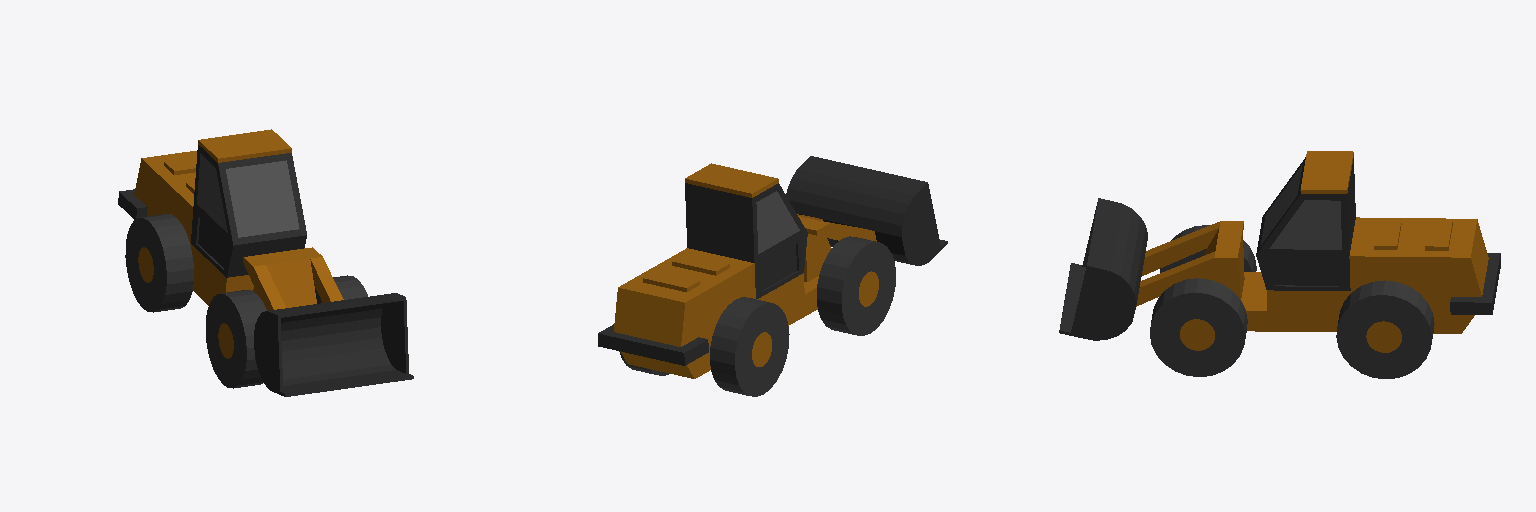
The model's file is tractor.obj.
3 renders of one model, left to right at view 1: azimuth 30°, elevation 25°; view 2: azimuth 150°, elevation 25°; view 3: azimuth 270°, elevation 25°, orthographic.
Parts seen in each view (by area): view 1: Shape_IndexedFaceSet.017, Shape_IndexedFaceSet.019, Shape_IndexedFaceSet.012, Shape_IndexedFaceSet.008, Shape_IndexedFaceSet.006, Shape_IndexedFaceSet.014, Shape_IndexedFaceSet.013, Shape_IndexedFaceSet.005, Shape_IndexedFaceSet.011, Shape_IndexedFaceSet.018, Shape_IndexedFaceSet.009; view 2: Shape_IndexedFaceSet.019, Shape_IndexedFaceSet.017, Shape_IndexedFaceSet.008, Shape_IndexedFaceSet.012, Shape_IndexedFaceSet.014, Shape_IndexedFaceSet.009, Shape_IndexedFaceSet.013, Shape_IndexedFaceSet.005, Shape_IndexedFaceSet.011, Shape_IndexedFaceSet.016, Shape_IndexedFaceSet.004, Shape_IndexedFaceSet.001 (+1 smaller); view 3: Shape_IndexedFaceSet.019, Shape_IndexedFaceSet.017, Shape_IndexedFaceSet.018, Shape_IndexedFaceSet.015, Shape_IndexedFaceSet.008, Shape_IndexedFaceSet, Shape_IndexedFaceSet.013, Shape_IndexedFaceSet.010, Shape_IndexedFaceSet.009, Shape_IndexedFaceSet.006, Shape_IndexedFaceSet.003, Shape_IndexedFaceSet.002 (+3 smaller).
Part boxes in pixels (left/top/right/bottom): Shape_IndexedFaceSet.017: left=254, top=293, right=413, bottom=396; Shape_IndexedFaceSet.019: left=134, top=151, right=343, bottom=310; Shape_IndexedFaceSet.012: left=125, top=214, right=193, bottom=312; Shape_IndexedFaceSet.008: left=191, top=145, right=306, bottom=277; Shape_IndexedFaceSet.006: left=226, top=160, right=299, bottom=237; Shape_IndexedFaceSet.014: left=206, top=290, right=266, bottom=388; Shape_IndexedFaceSet.013: left=198, top=129, right=291, bottom=162; Shape_IndexedFaceSet.005: left=197, top=153, right=227, bottom=232; Shape_IndexedFaceSet.011: left=196, top=217, right=224, bottom=269; Shape_IndexedFaceSet.018: left=314, top=275, right=367, bottom=303; Shape_IndexedFaceSet.009: left=118, top=189, right=147, bottom=219; Shape_IndexedFaceSet.019: left=614, top=214, right=876, bottom=378; Shape_IndexedFaceSet.017: left=786, top=156, right=947, bottom=265; Shape_IndexedFaceSet.008: left=685, top=183, right=807, bottom=298; Shape_IndexedFaceSet.012: left=710, top=297, right=789, bottom=396; Shape_IndexedFaceSet.014: left=817, top=236, right=895, bottom=335; Shape_IndexedFaceSet.009: left=598, top=324, right=708, bottom=365; Shape_IndexedFaceSet.013: left=685, top=163, right=778, bottom=197; Shape_IndexedFaceSet.005: left=756, top=191, right=799, bottom=253; Shape_IndexedFaceSet.011: left=761, top=243, right=798, bottom=291; Shape_IndexedFaceSet.016: left=672, top=254, right=729, bottom=275; Shape_IndexedFaceSet.004: left=643, top=271, right=699, bottom=291; Shape_IndexedFaceSet.001: left=859, top=271, right=878, bottom=306; Shape_IndexedFaceSet.019: left=1136, top=217, right=1488, bottom=333; Shape_IndexedFaceSet.017: left=1059, top=198, right=1147, bottom=340; Shape_IndexedFaceSet.018: left=1150, top=278, right=1247, bottom=376; Shape_IndexedFaceSet.015: left=1336, top=280, right=1434, bottom=378; Shape_IndexedFaceSet.008: left=1256, top=157, right=1355, bottom=290; Shape_IndexedFaceSet: left=1269, top=200, right=1341, bottom=249; Shape_IndexedFaceSet.013: left=1300, top=151, right=1353, bottom=193; Shape_IndexedFaceSet.010: left=1274, top=260, right=1338, bottom=286; Shape_IndexedFaceSet.009: left=1450, top=253, right=1500, bottom=314; Shape_IndexedFaceSet.006: left=1260, top=164, right=1302, bottom=246; Shape_IndexedFaceSet.003: left=1366, top=321, right=1401, bottom=352; Shape_IndexedFaceSet.002: left=1180, top=319, right=1214, bottom=350.
Bounding box in the file's own units: 27.32 × 32.71 × 69.52.